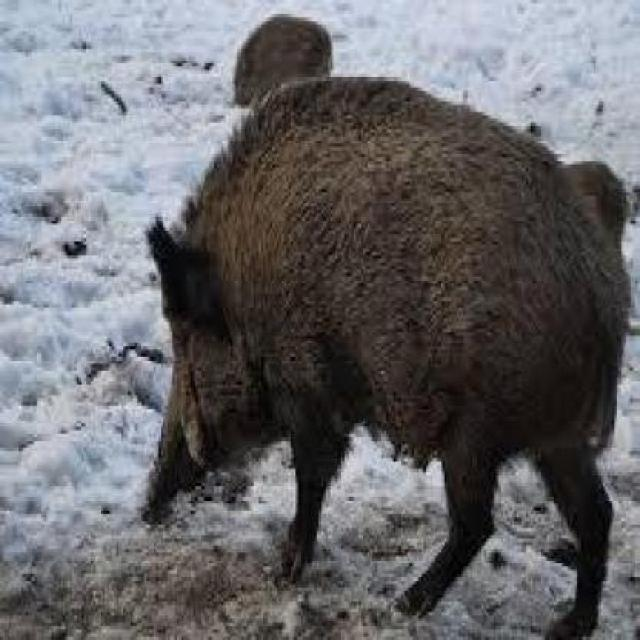wildboar: (138, 72, 633, 640)
